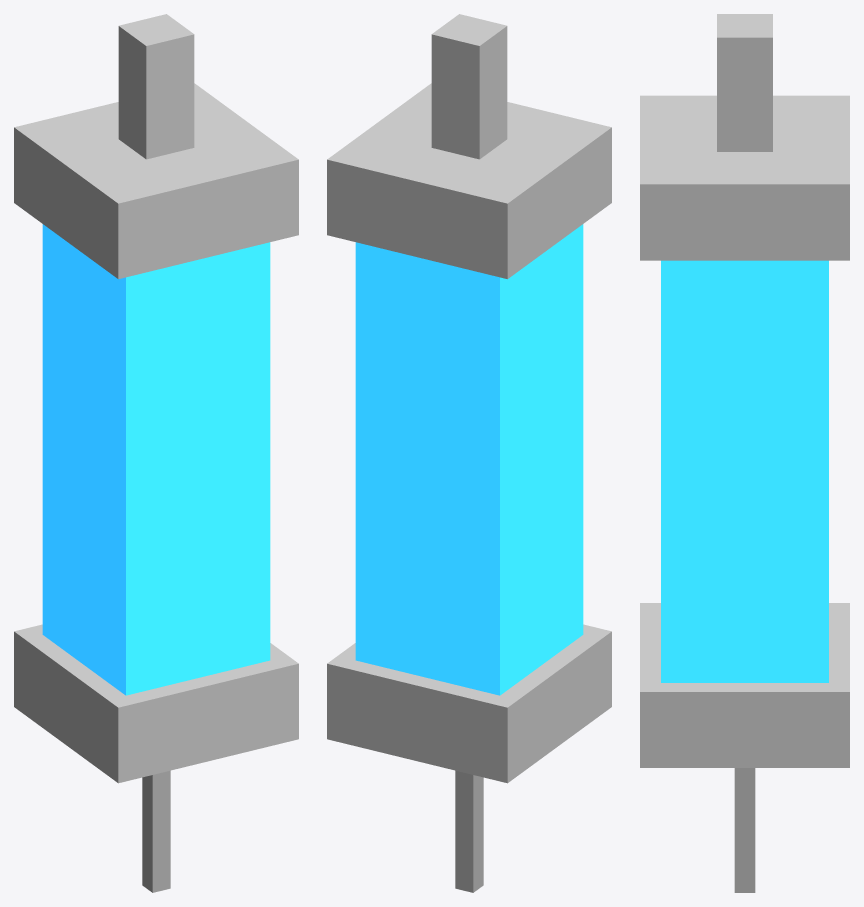
File: adrenaline.glb
3 views of the same model, side by side, from view 1: azimuth 30°, elevation 25°; view 2: azimuth 150°, elevation 25°; view 3: azimuth 270°, elevation 25° (orthographic).
Visible parts, largest first — view 1: Body; view 2: Body; view 3: Body.
Boxes of the visible parts, x1,y1,x2,y2 form: Body: (14,14,298,892); Body: (327,14,611,892); Body: (640,14,849,892).
Bounding box in the file's own units: 0.15 × 0.68 × 0.15.
